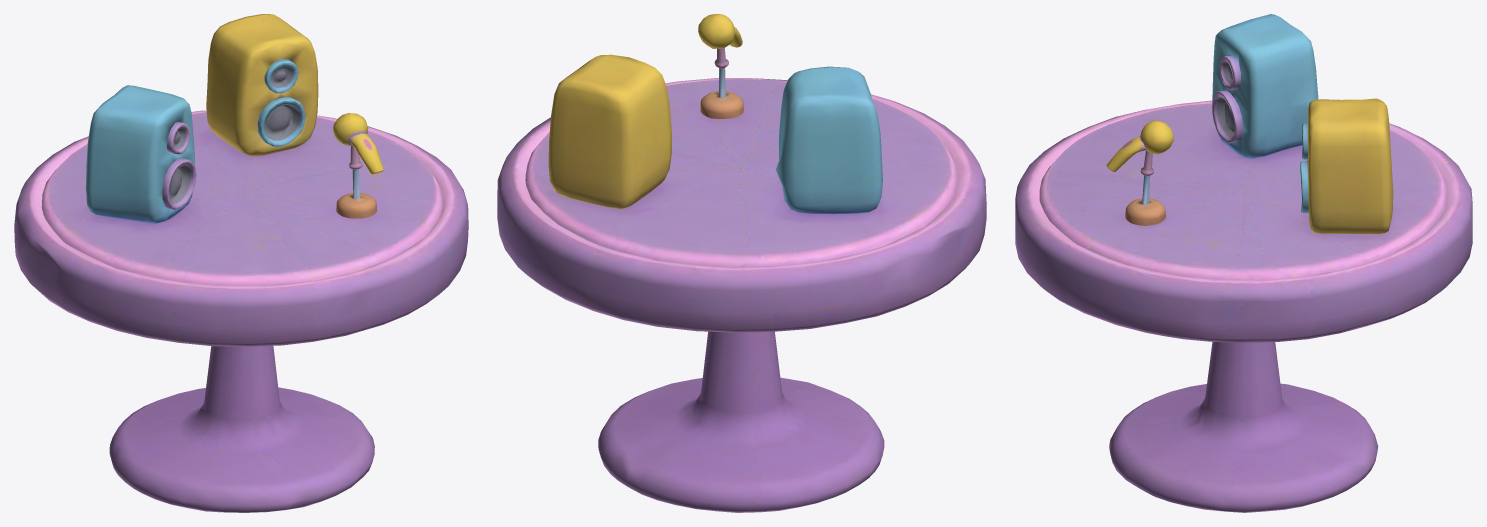
File: stage-podium.glb
3 views of the same model, side by side, from view 1: azimuth 30°, elevation 25°; view 2: azimuth 150°, elevation 25°; view 3: azimuth 270°, elevation 25° (orthographic). The views are drawn at different scales.
Parts seen in each view (by area): view 1: geometry_0; view 2: geometry_0; view 3: geometry_0.
Part boxes in pixels (<box>): geometry_0: <box>14,14,468,512</box>; geometry_0: <box>497,14,986,512</box>; geometry_0: <box>1015,14,1472,512</box>.
Size of the model in its own units: 1 by 0.9258 by 1.
1 material, 1 textured.
